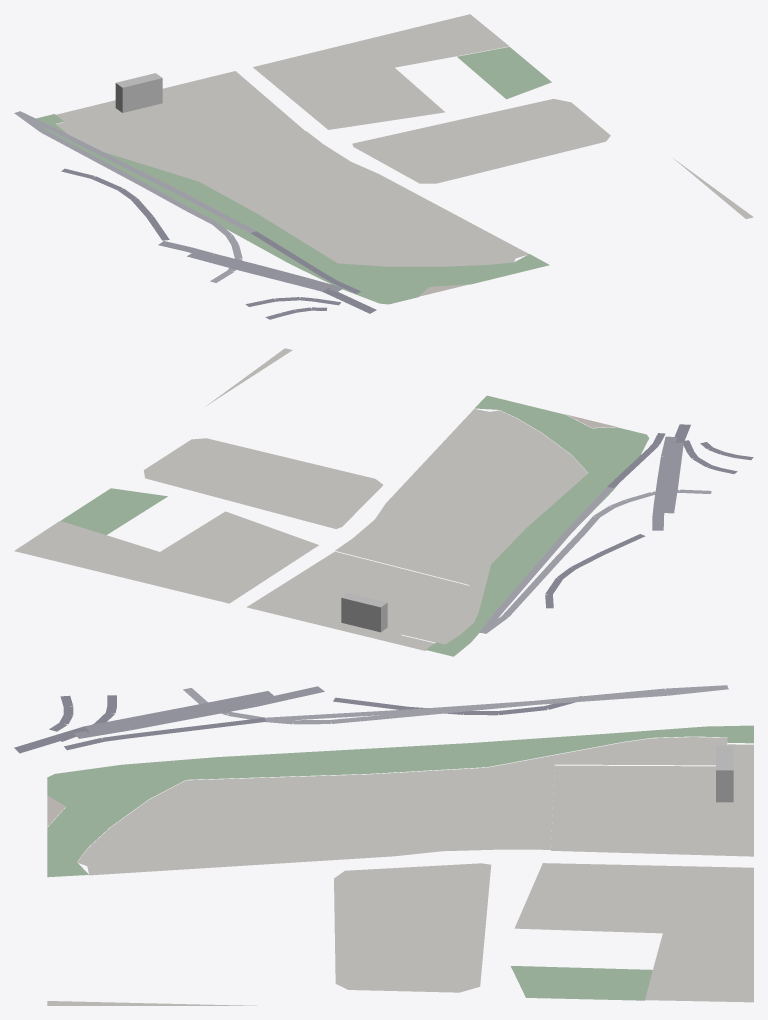
The model's file is 138_109_mid.glb.
3 renders of one model, top to bottom at view 1: azimuth 30°, elevation 25°; view 2: azimuth 150°, elevation 25°; view 3: azimuth 270°, elevation 25°, orthographic. The views are drawn at different scales.
Bounding box in the file's own units: 507 × 25.78 × 523.
